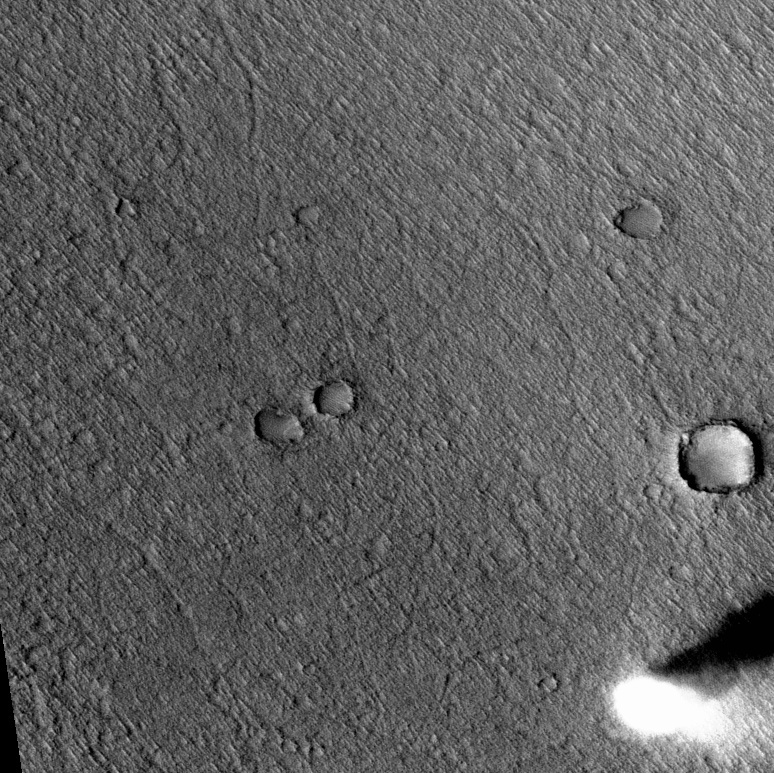dust_devil: (608, 579, 774, 749)
